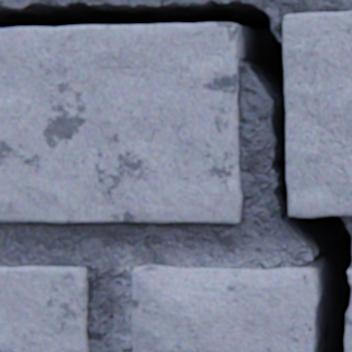brick: (0, 23, 242, 223), (283, 12, 351, 216), (0, 266, 89, 351)
broken_brick: (132, 265, 318, 351), (344, 295, 351, 351), (347, 269, 351, 287)
crack: (0, 0, 351, 351)
